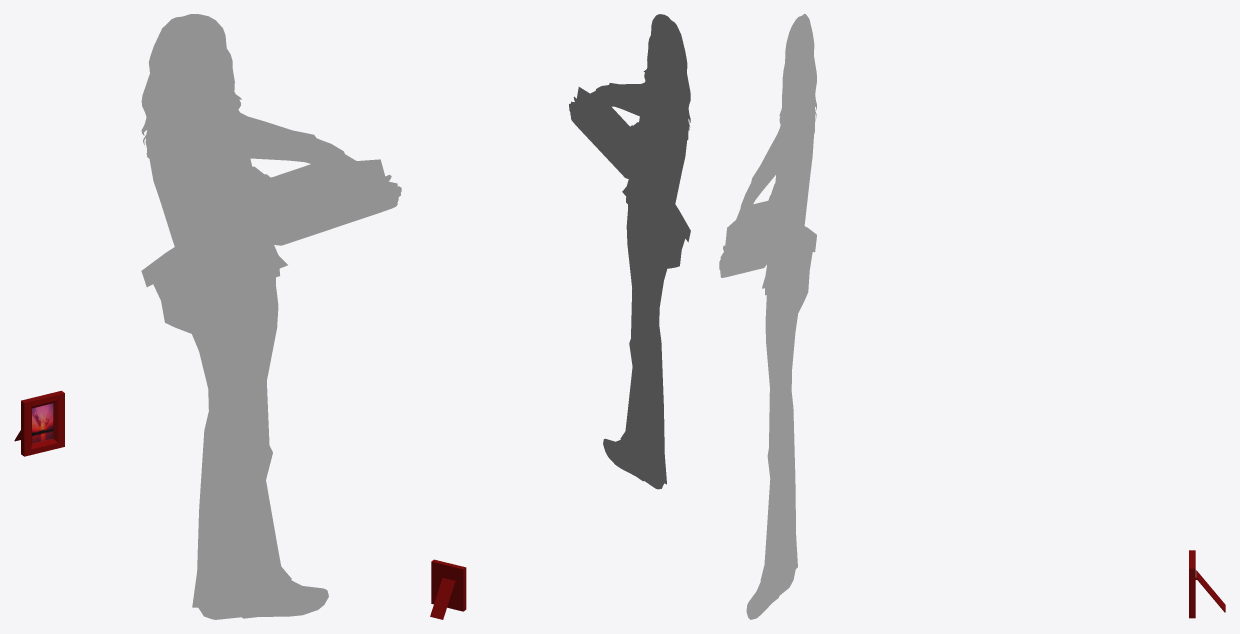
3 views of the same model, side by side, from view 1: azimuth 30°, elevation 25°; view 2: azimuth 150°, elevation 25°; view 3: azimuth 270°, elevation 25° (orthographic). The views are drawn at different scales.
Parts seen in each view (by area): view 1: Mesh2 G_2D_Woman_Standing_Sandra1 Model, Mesh1 Group1 Model; view 2: Mesh2 G_2D_Woman_Standing_Sandra1 Model, Mesh1 Group1 Model; view 3: Mesh2 G_2D_Woman_Standing_Sandra1 Model, Mesh1 Group1 Model.
Part boxes in pixels (box(x1,y1,x2,y2)): Mesh2 G_2D_Woman_Standing_Sandra1 Model: box(141, 14, 401, 619); Mesh1 Group1 Model: box(14, 390, 64, 456); Mesh2 G_2D_Woman_Standing_Sandra1 Model: box(569, 14, 690, 489); Mesh1 Group1 Model: box(430, 559, 466, 619); Mesh2 G_2D_Woman_Standing_Sandra1 Model: box(719, 14, 816, 619); Mesh1 Group1 Model: box(1189, 550, 1225, 618).
Size of the model in its own units: 23.94 by 67.23 by 54.72.
3 materials, 1 textured.
